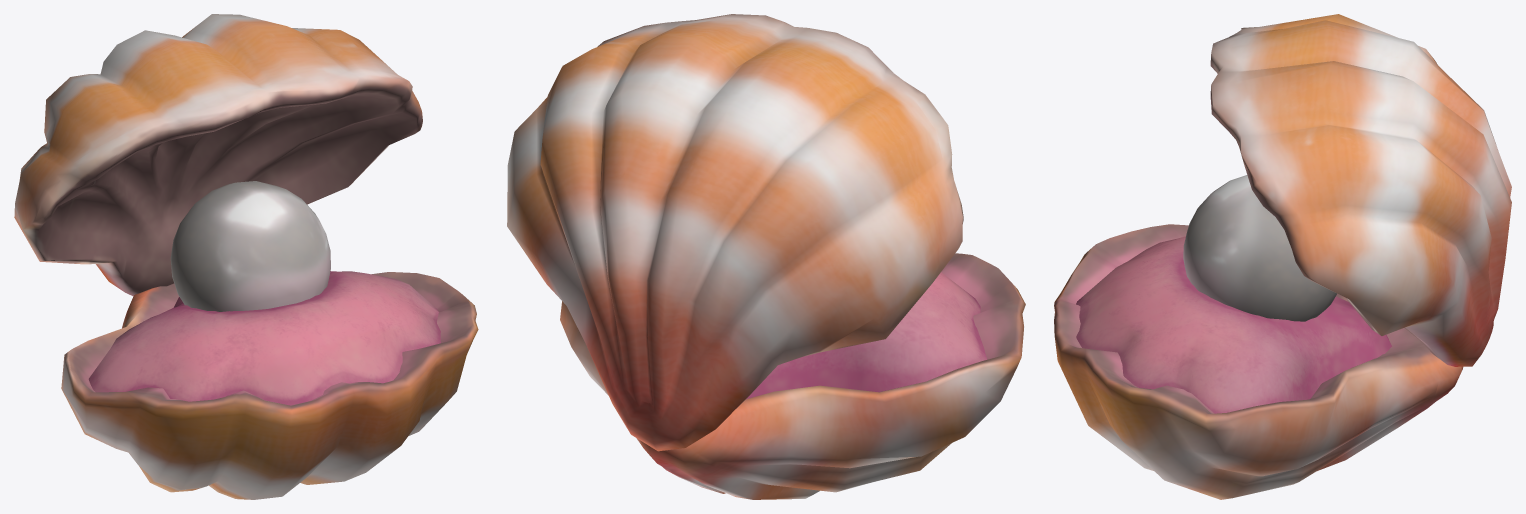
File: V2_stylizedOyster_edit_for_FBX.fbx
3 renders of one model, left to right at view 1: azimuth 30°, elevation 25°; view 2: azimuth 150°, elevation 25°; view 3: azimuth 270°, elevation 25°, orthographic. The views are drawn at different scales.
Parts seen in each view (by area): view 1: stylizedOyster; view 2: stylizedOyster; view 3: stylizedOyster.
Boxes of the visible parts, box(x1,y1,x2,y2) form: stylizedOyster: box(14, 14, 478, 499); stylizedOyster: box(507, 14, 1025, 499); stylizedOyster: box(1054, 14, 1511, 499).
Bounding box in the file's own units: 21.45 × 22.03 × 21.39.
